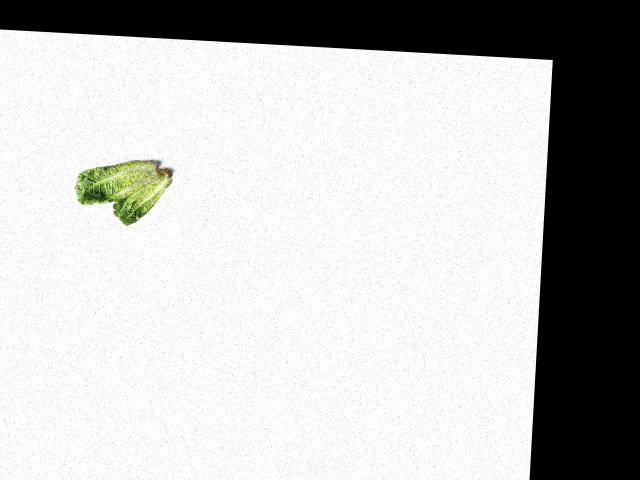lettuce: (111, 163, 177, 228)
